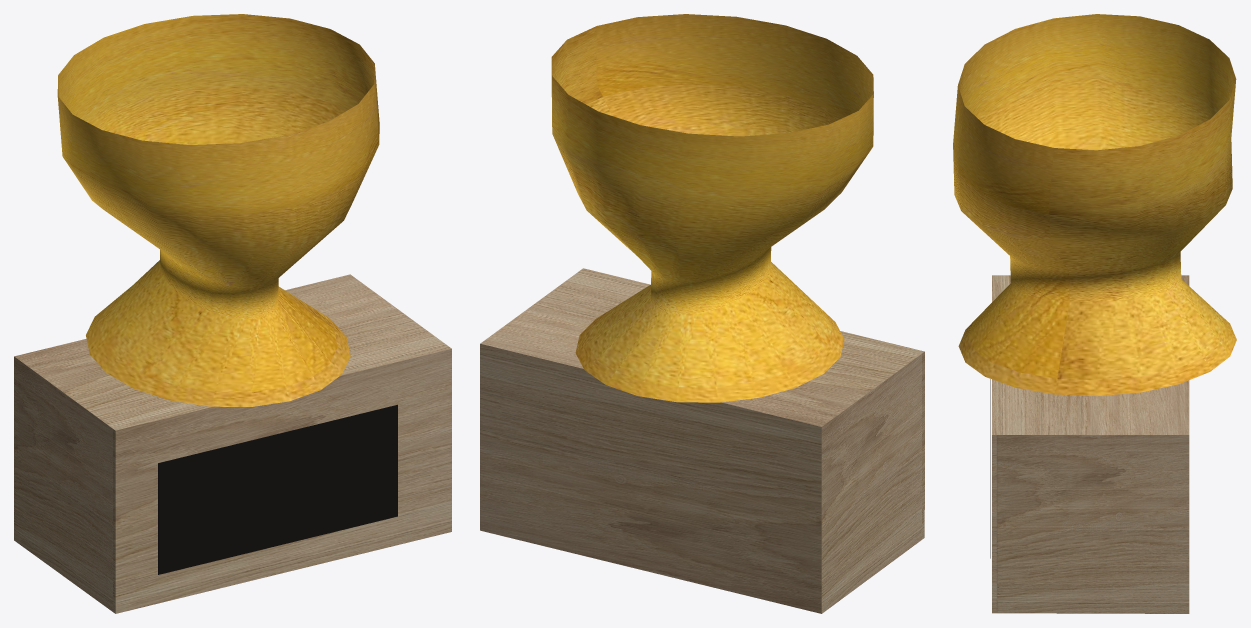
The model's file is TrophyAsset.fbx.
3 views of the same model, side by side, from view 1: azimuth 30°, elevation 25°; view 2: azimuth 150°, elevation 25°; view 3: azimuth 270°, elevation 25° (orthographic). The views are drawn at different scales.
Visible parts, largest first — view 1: pCylinder2; view 2: pCylinder2; view 3: pCylinder2.
Boxes of the visible parts, x1=… form: pCylinder2: x1=14, y1=14, x2=451, y2=613; pCylinder2: x1=480, y1=14, x2=924, y2=613; pCylinder2: x1=953, y1=14, x2=1236, y2=613.
Bounding box in the file's own units: 1.91 × 2.51 × 1.44.
3 materials, 2 textured.
